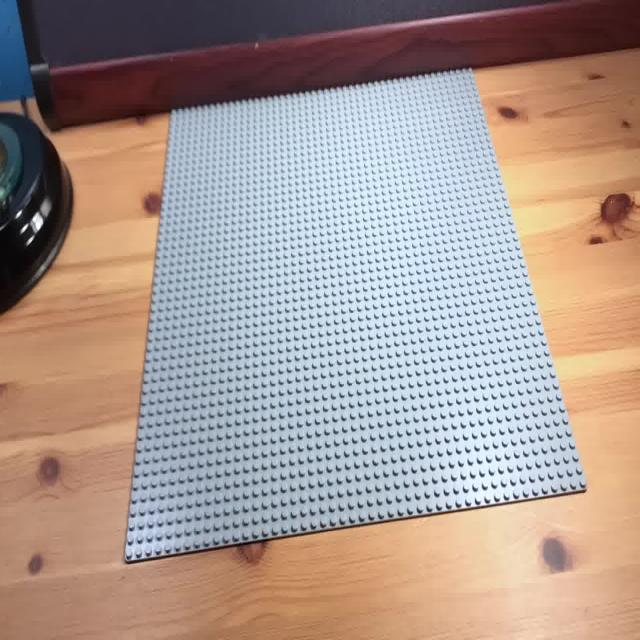figure: (130, 71, 582, 553)
